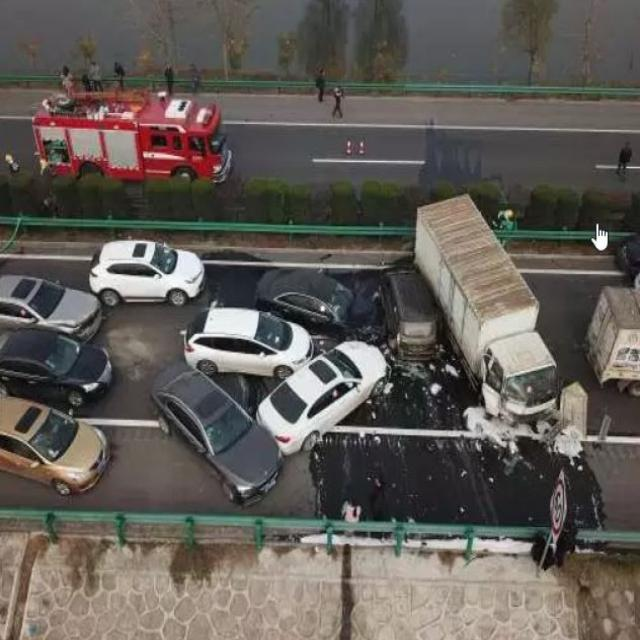traffic_incident: (181, 193, 544, 470)
